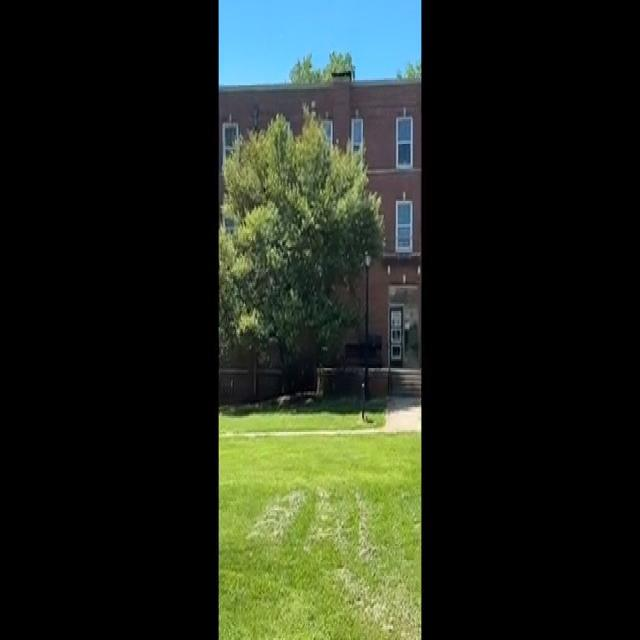drone: (316, 339, 332, 358)
